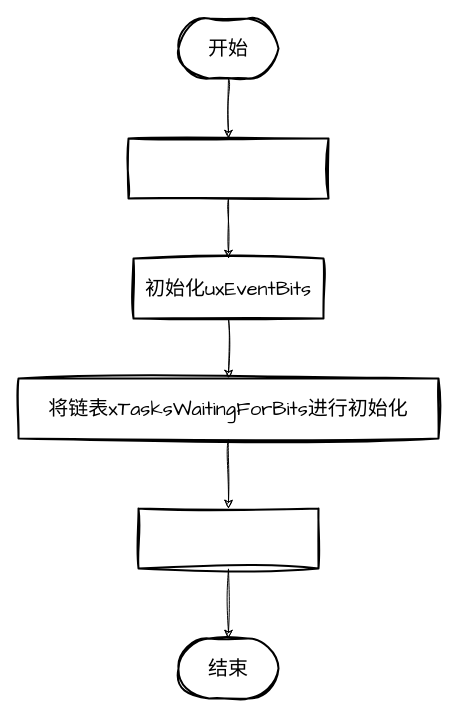
Some shapes in this 456 by 716 pixel diagram are drawn without their labels. Each missing label, with the centre of its shape:
"分配事件组空间" goes at point (228, 168).
"返回事件组句柄" goes at point (228, 538).
